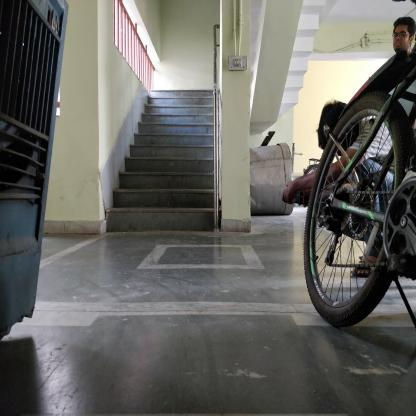stairs: (155, 89, 213, 238)
